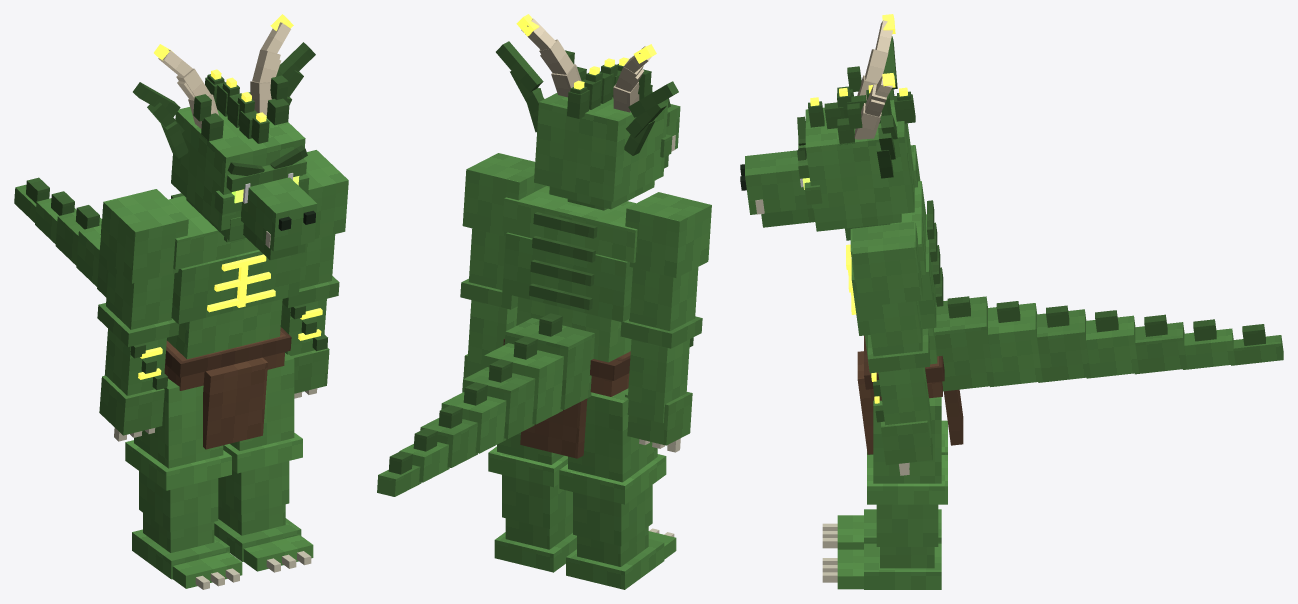
File: lizard_base_v2_evo2.glb
3 renders of one model, left to right at view 1: azimuth 30°, elevation 25°; view 2: azimuth 150°, elevation 25°; view 3: azimuth 270°, elevation 25°, orthographic.
Parts seen in each view (by area): view 1: Torso, Head, ArmR, LegR, LegL, ArmL, Root; view 2: Torso, Head, ArmR, LegR, ArmL, LegL; view 3: Torso, Head, ArmL, LegL, LegR, Root.
Boxes of the visible parts, x1,y1,x2,y2 form: Torso: [14, 177, 301, 449]; Head: [133, 14, 317, 260]; ArmR: [97, 189, 188, 441]; LegR: [125, 378, 242, 588]; LegL: [214, 353, 313, 571]; ArmL: [280, 150, 348, 398]; Root: [195, 551, 311, 589]; Torso: [377, 186, 637, 496]; Head: [496, 14, 680, 210]; ArmR: [620, 192, 711, 452]; LegR: [559, 388, 676, 589]; ArmL: [460, 153, 546, 378]; LegL: [488, 432, 576, 572]; Torso: [846, 181, 1283, 454]; Head: [740, 14, 915, 240]; ArmL: [852, 221, 932, 475]; LegL: [837, 397, 947, 589]; LegR: [837, 420, 947, 549]; Root: [822, 523, 837, 582].
Bounding box in the file's own units: 0.78 × 1.83 × 1.75.
26 materials, 26 textured.
